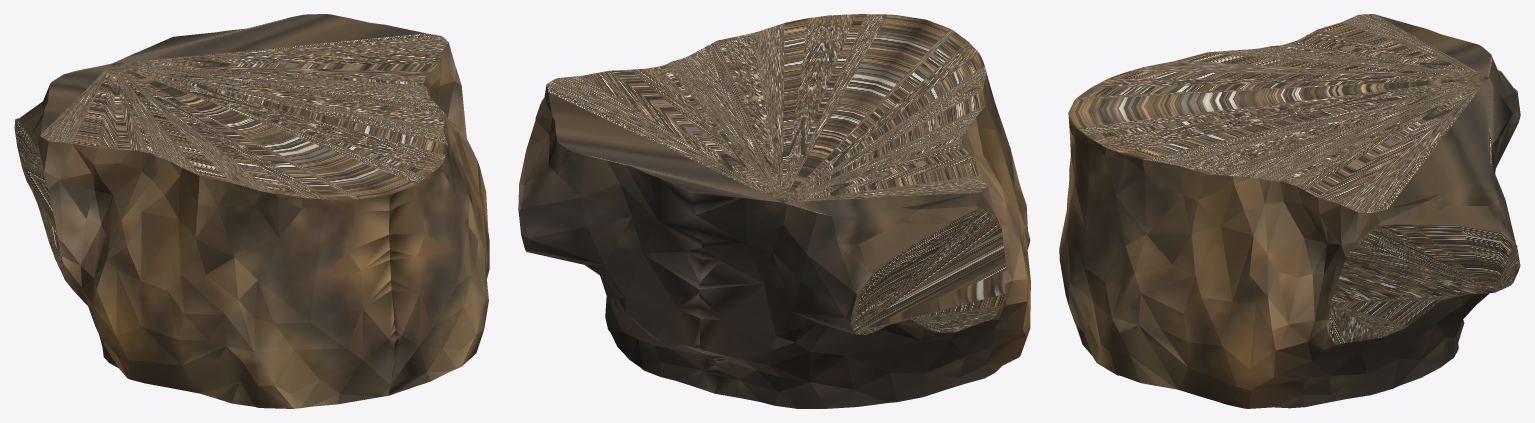
The model's file is Sungaya_inexpectata_31mg.083.obj.
The picture shows the model from 3 angles, left to right: view 1: azimuth 30°, elevation 25°; view 2: azimuth 150°, elevation 25°; view 3: azimuth 270°, elevation 25°; orthographic projection. The views are drawn at different scales.
Visible parts, largest first — view 1: 07-a2.000_Sungaya_inexpectata_31mg.083; view 2: 07-a2.000_Sungaya_inexpectata_31mg.083; view 3: 07-a2.000_Sungaya_inexpectata_31mg.083.
Boxes of the visible parts, <box> form: 07-a2.000_Sungaya_inexpectata_31mg.083: <box>14,14,489,408</box>; 07-a2.000_Sungaya_inexpectata_31mg.083: <box>518,14,1030,408</box>; 07-a2.000_Sungaya_inexpectata_31mg.083: <box>1059,14,1520,408</box>.
Bounding box in the file's own units: 0.00193 × 0.000919 × 0.00182.
1 material, 1 textured.
